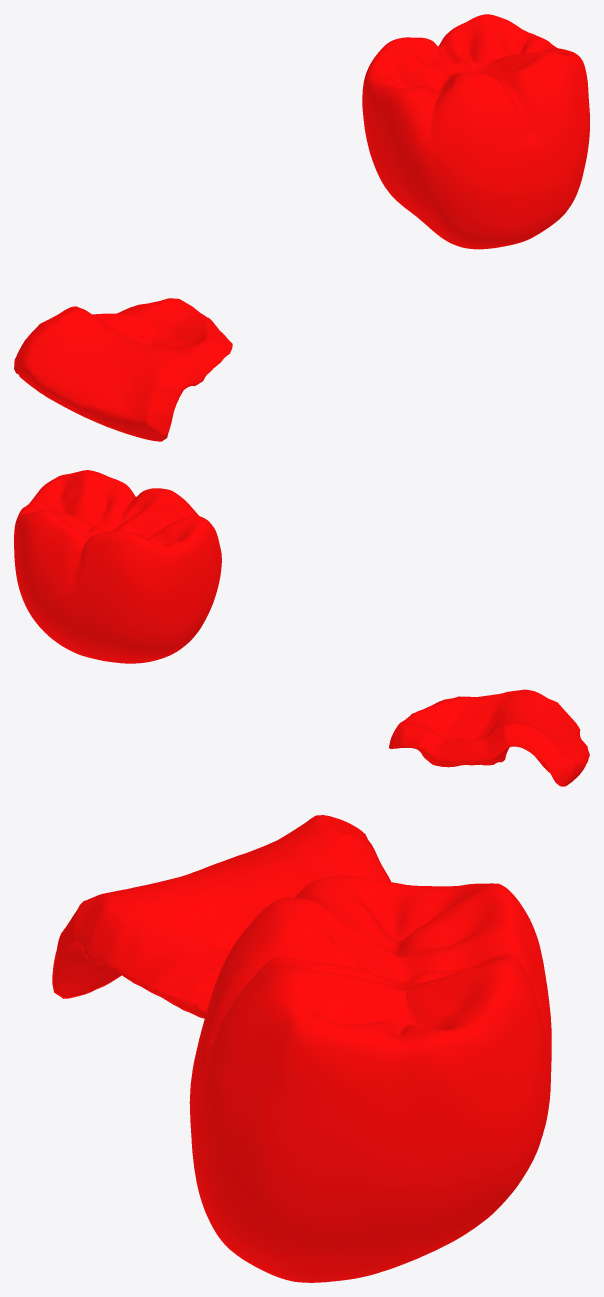
File: cross-section-copies.glb
The picture shows the model from 3 angles, top to bottom: view 1: azimuth 30°, elevation 25°; view 2: azimuth 150°, elevation 25°; view 3: azimuth 270°, elevation 25°; orthographic projection. The views are drawn at different scales.
Bounding box in the file's own units: 36.04 × 14.26 × 14.75.
